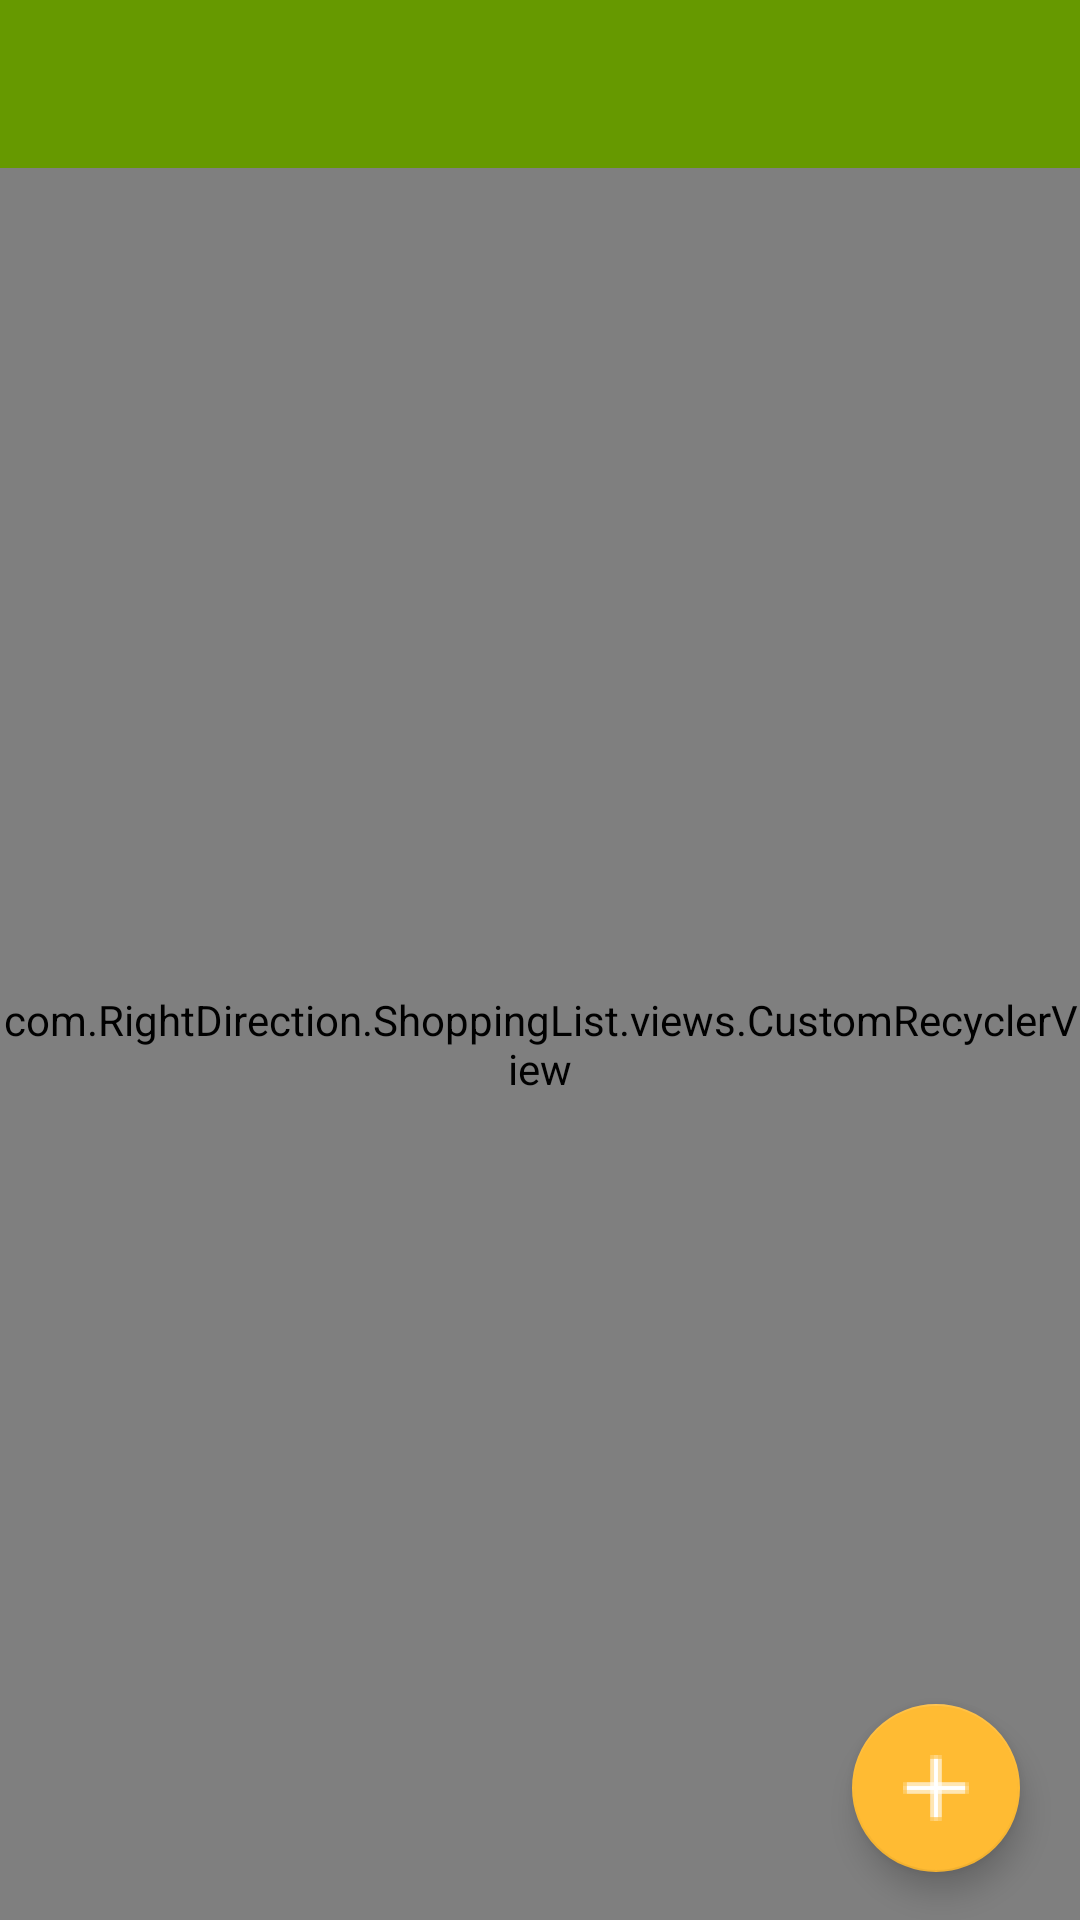

Icon bounding boxes for this 1080w x 1920h phone screenshot, format Rect(x1, y1, x2, y2):
add: Rect(852, 1704, 1020, 1872)
